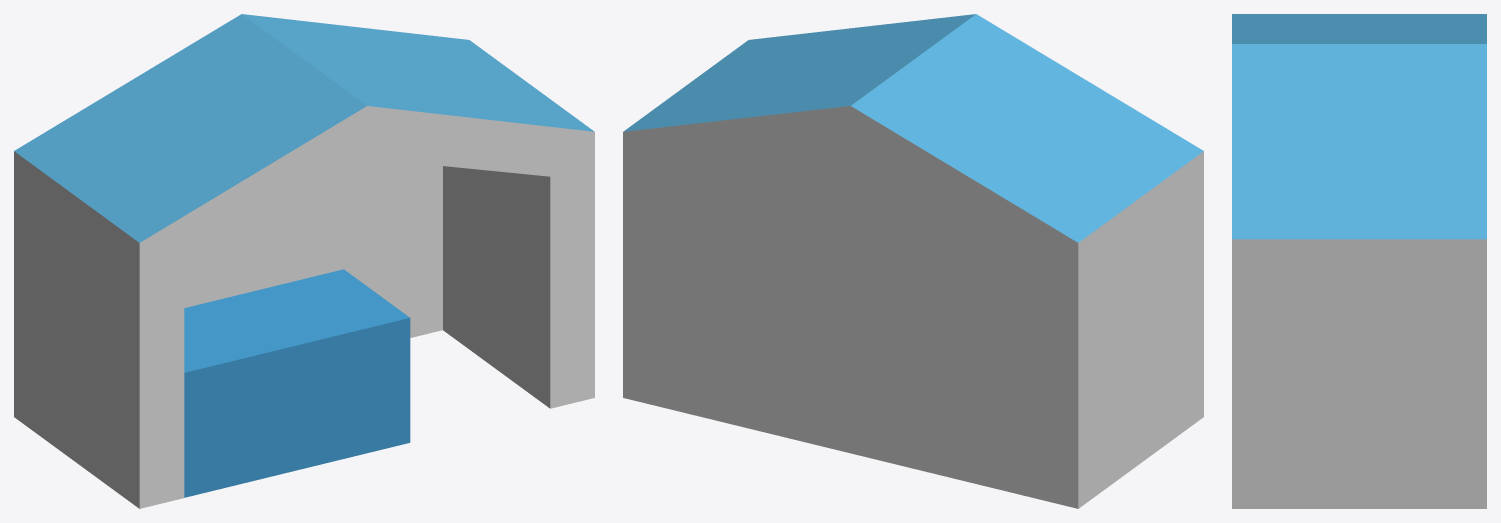
The model's file is stall01_s01.FBX.
3 renders of one model, left to right at view 1: azimuth 30°, elevation 25°; view 2: azimuth 150°, elevation 25°; view 3: azimuth 270°, elevation 25°, orthographic.
Parts seen in each view (by area): view 1: stall01_s01; view 2: stall01_s01; view 3: stall01_s01.
Boxes of the visible parts, <box> form: stall01_s01: <box>14,14,594,508</box>; stall01_s01: <box>623,14,1203,508</box>; stall01_s01: <box>1232,14,1486,508</box>.
Bounding box in the file's own units: 359 × 171 × 262.
1 material, 1 textured.
